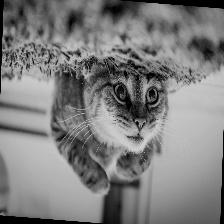kedo: (50, 68, 169, 195)
